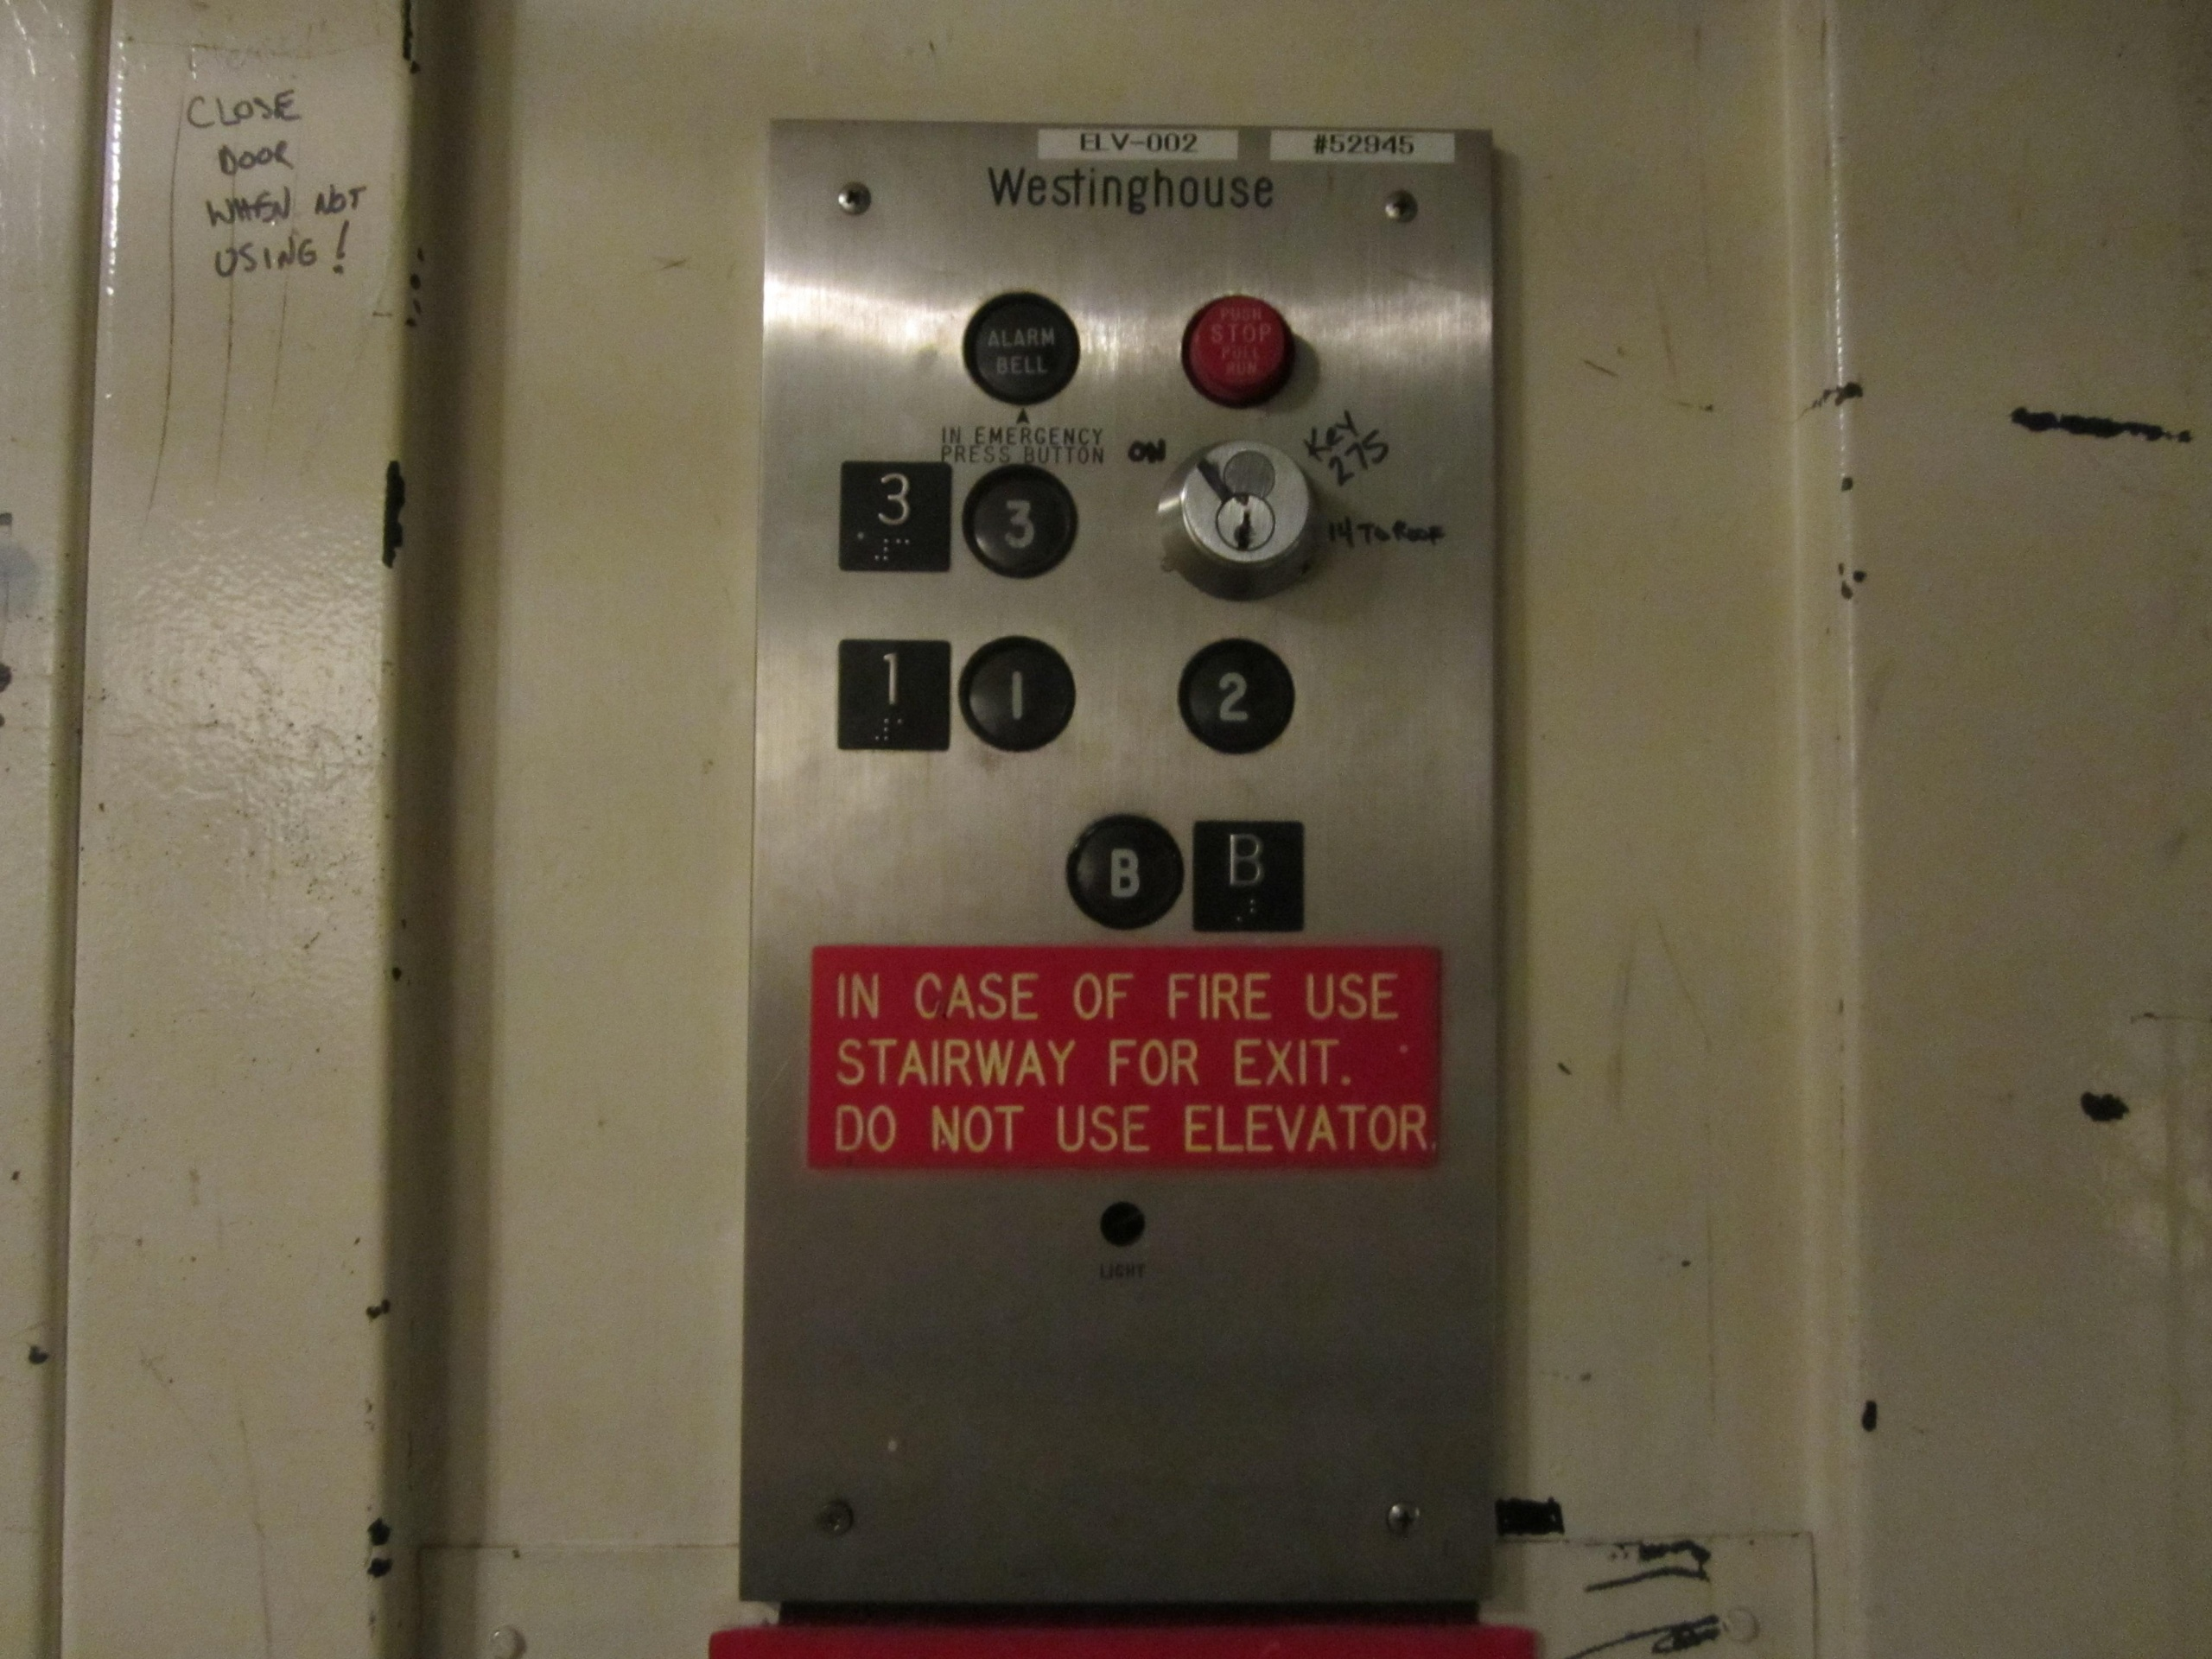1: (953, 626, 1083, 758), (829, 631, 960, 762)
2: (1170, 631, 1301, 763)
3: (831, 451, 961, 582), (958, 457, 1087, 587)
B: (1183, 809, 1313, 941), (1061, 807, 1190, 938)
keyhole: (1144, 429, 1332, 605)
text: (956, 284, 1087, 411), (1174, 286, 1305, 413)
